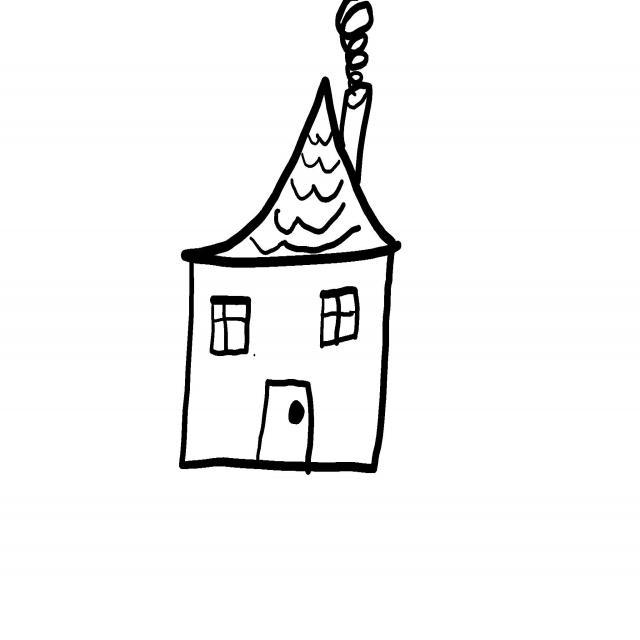chimney: (338, 80, 373, 191)
door: (257, 377, 316, 468)
house: (175, 71, 407, 474)
roof: (176, 75, 404, 269)
wall: (181, 256, 393, 476)
window: (321, 284, 361, 353), (210, 296, 250, 356)
